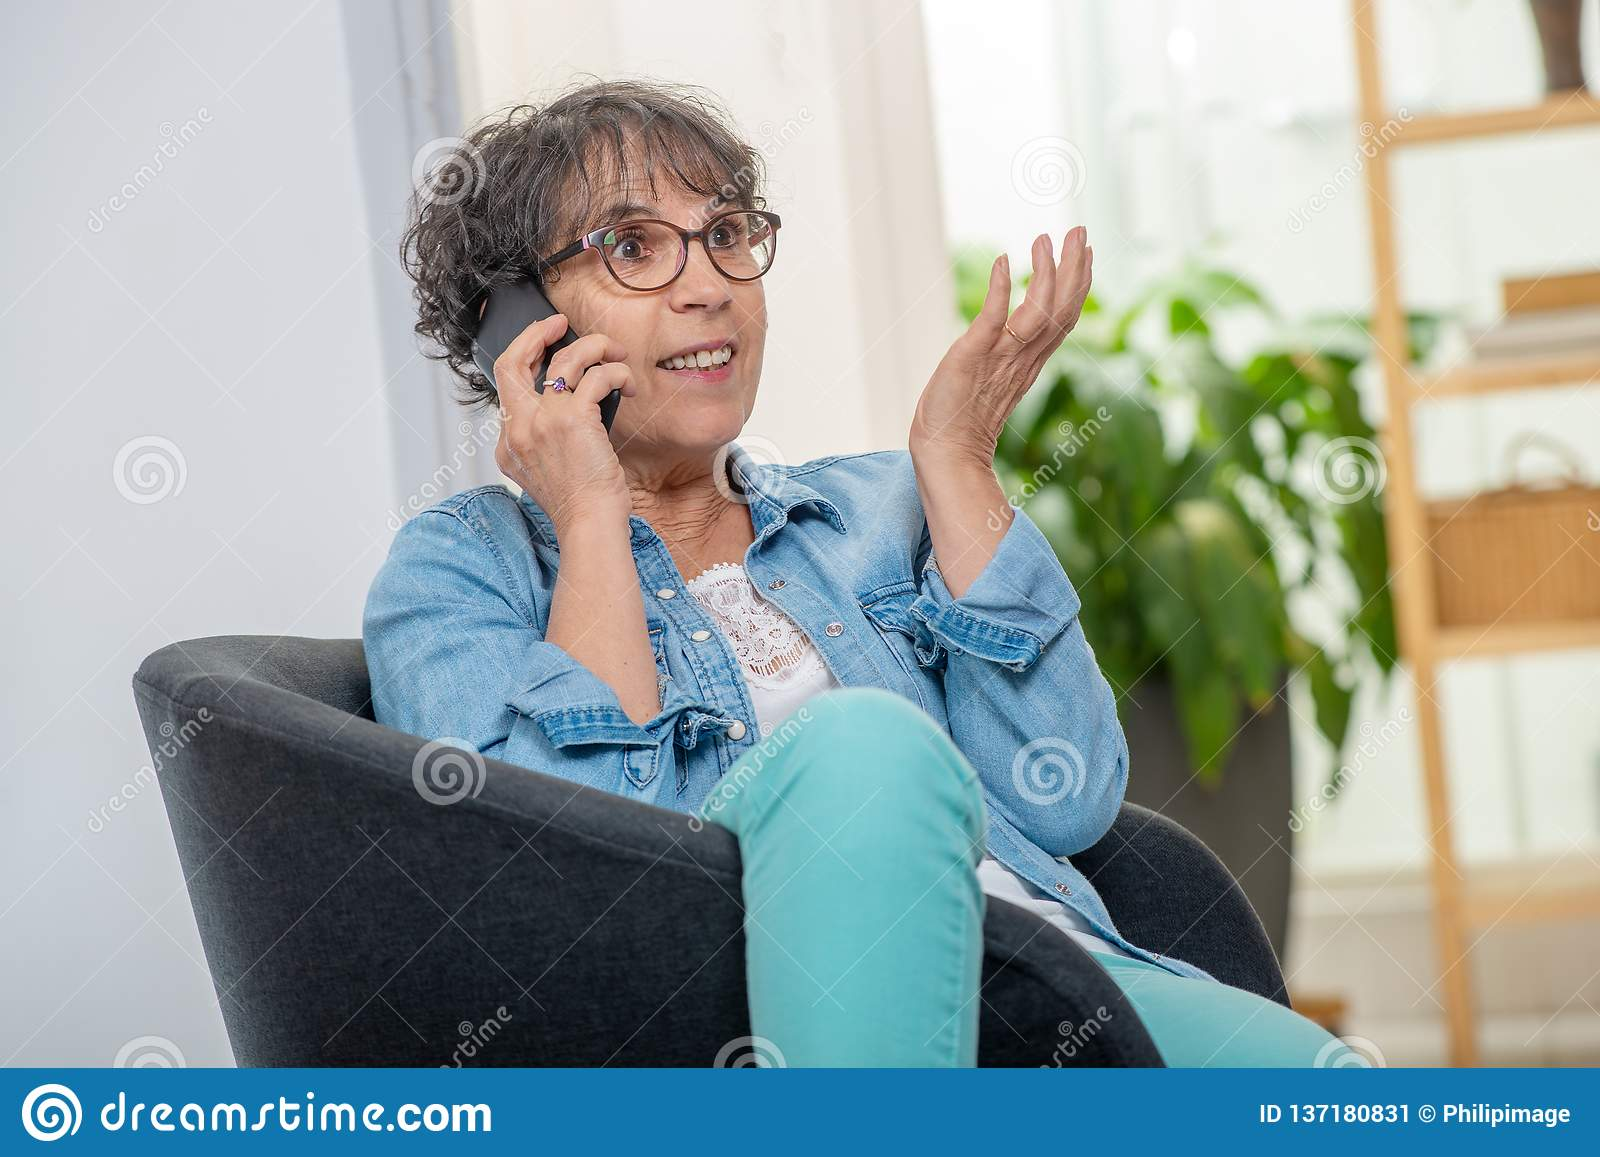phone: (475, 266, 624, 469)
talk: (471, 181, 769, 551)
